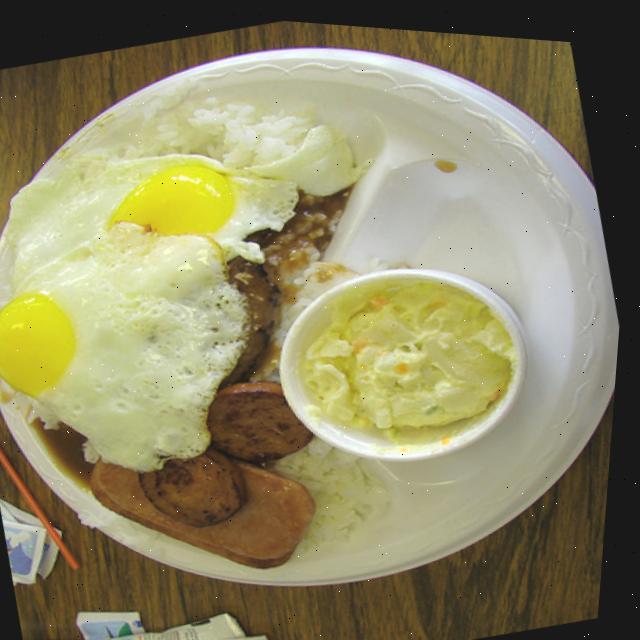鸡蛋料理: (0, 37, 422, 521)
